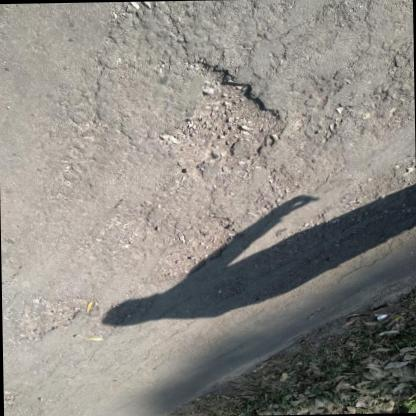pothole: (158, 58, 287, 172), (142, 214, 237, 284), (15, 297, 82, 342)
